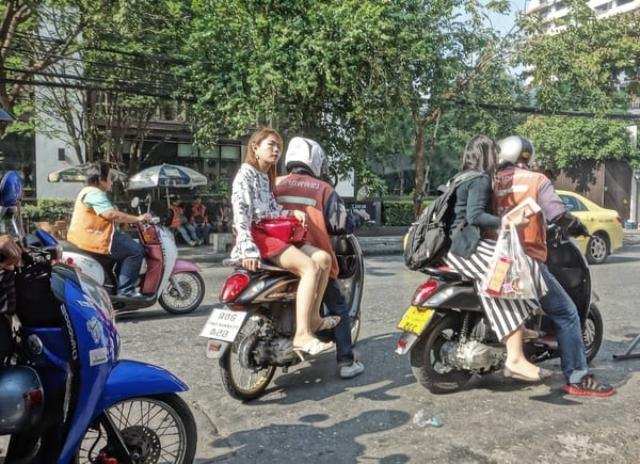helm: (285, 138, 327, 178), (497, 137, 536, 170)
motor: (2, 230, 199, 464), (397, 217, 604, 396), (200, 207, 366, 402), (97, 214, 206, 316)
non-helm: (464, 137, 501, 171), (249, 129, 283, 165), (88, 163, 114, 192)
